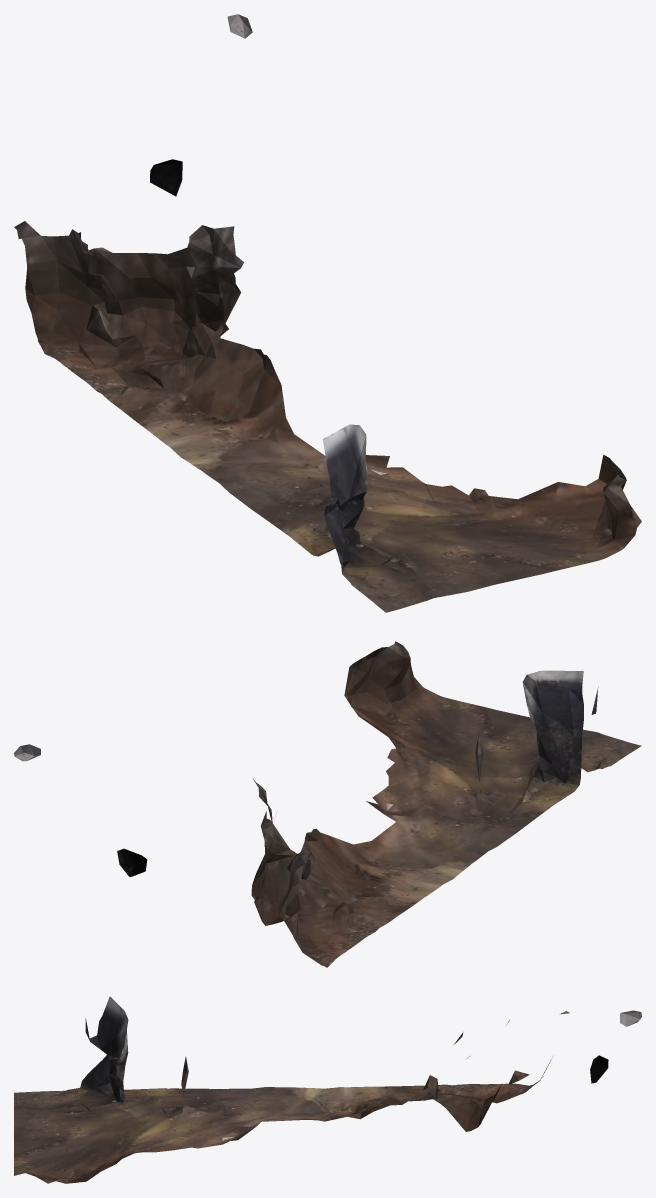
The picture shows the model from 3 angles, top to bottom: view 1: azimuth 30°, elevation 25°; view 2: azimuth 150°, elevation 25°; view 3: azimuth 270°, elevation 25°; orthographic projection. The views are drawn at different scales.
Size of the model in its own units: 10.27 by 8.53 by 27.15.
1 material, 1 textured.
